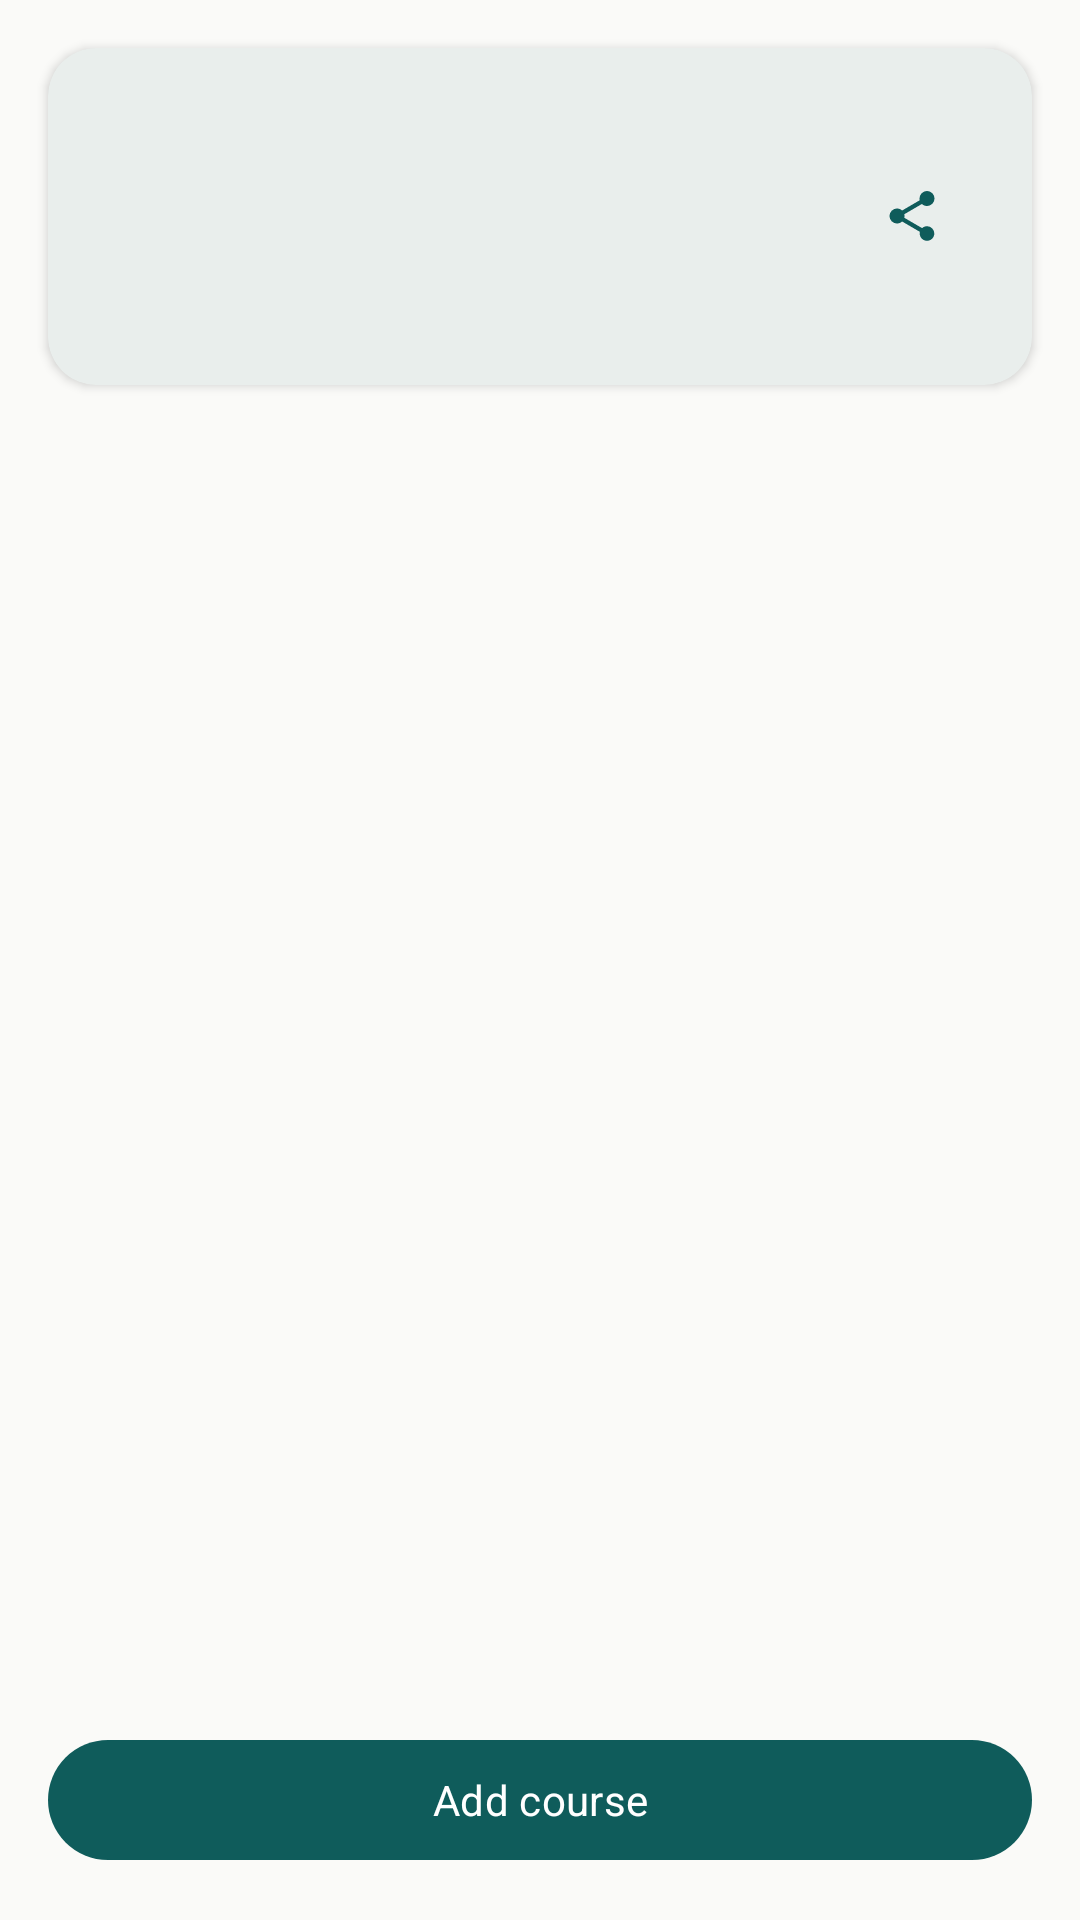

Icon bounding boxes for this 1080px x 1920px phone screenshot, format (x1, y1, x2, y2):
Share Result: (889, 191, 935, 241)
